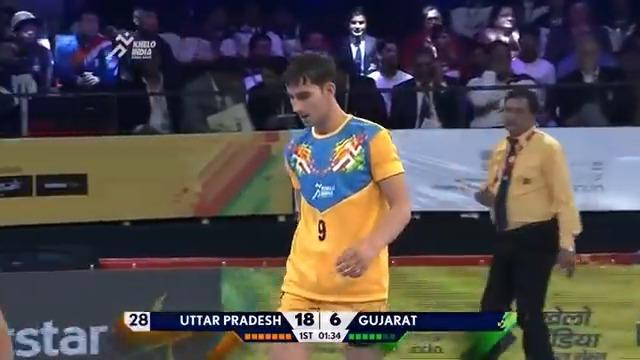Raider: (268, 51, 412, 358)
referee: (458, 86, 583, 358)
